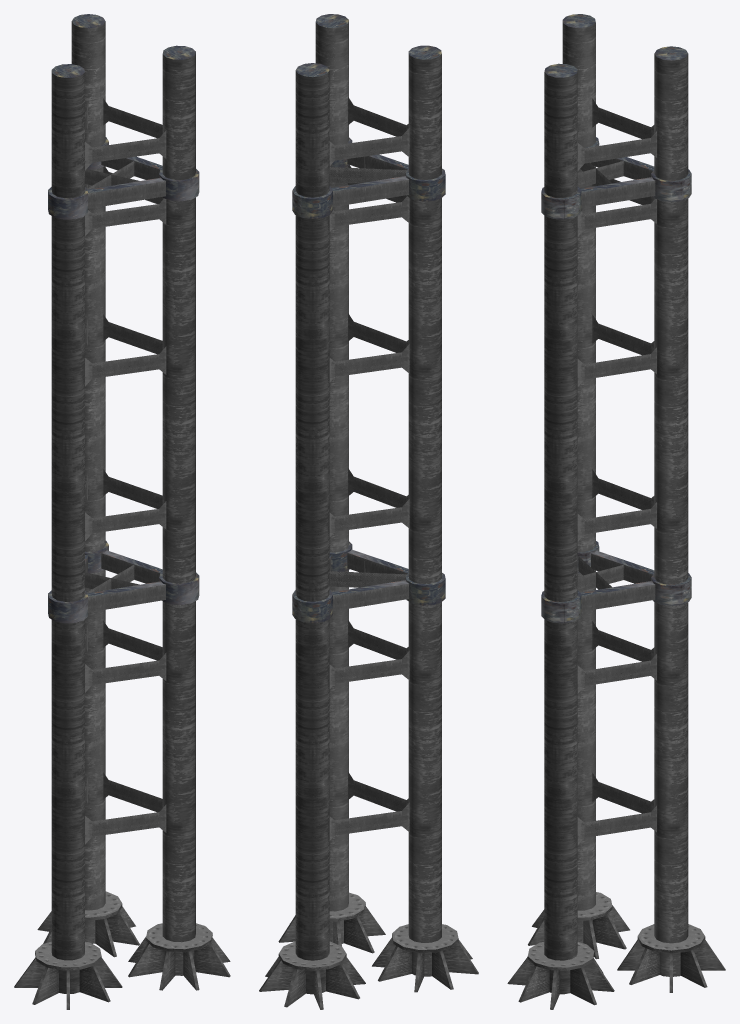
File: TowerPipe04.FBX
3 renders of one model, left to right at view 1: azimuth 30°, elevation 25°; view 2: azimuth 150°, elevation 25°; view 3: azimuth 270°, elevation 25°, orthographic.
Visible parts, largest first — view 1: TowerPipe04; view 2: TowerPipe04; view 3: TowerPipe04.
Part boxes in pixels (left/top/right/bottom): TowerPipe04: left=14, top=14, right=230, bottom=1009; TowerPipe04: left=259, top=14, right=478, bottom=1009; TowerPipe04: left=507, top=14, right=725, bottom=1009.
Bounding box in the file's own units: 2974 × 13490 × 2910.
